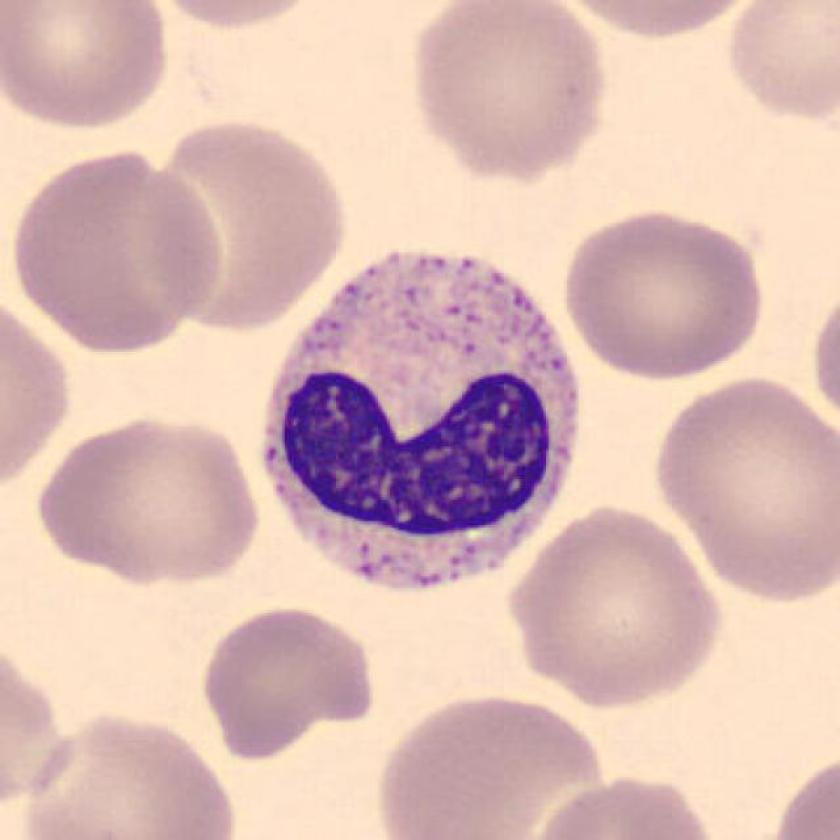neutrophil: (262, 253, 581, 585)
